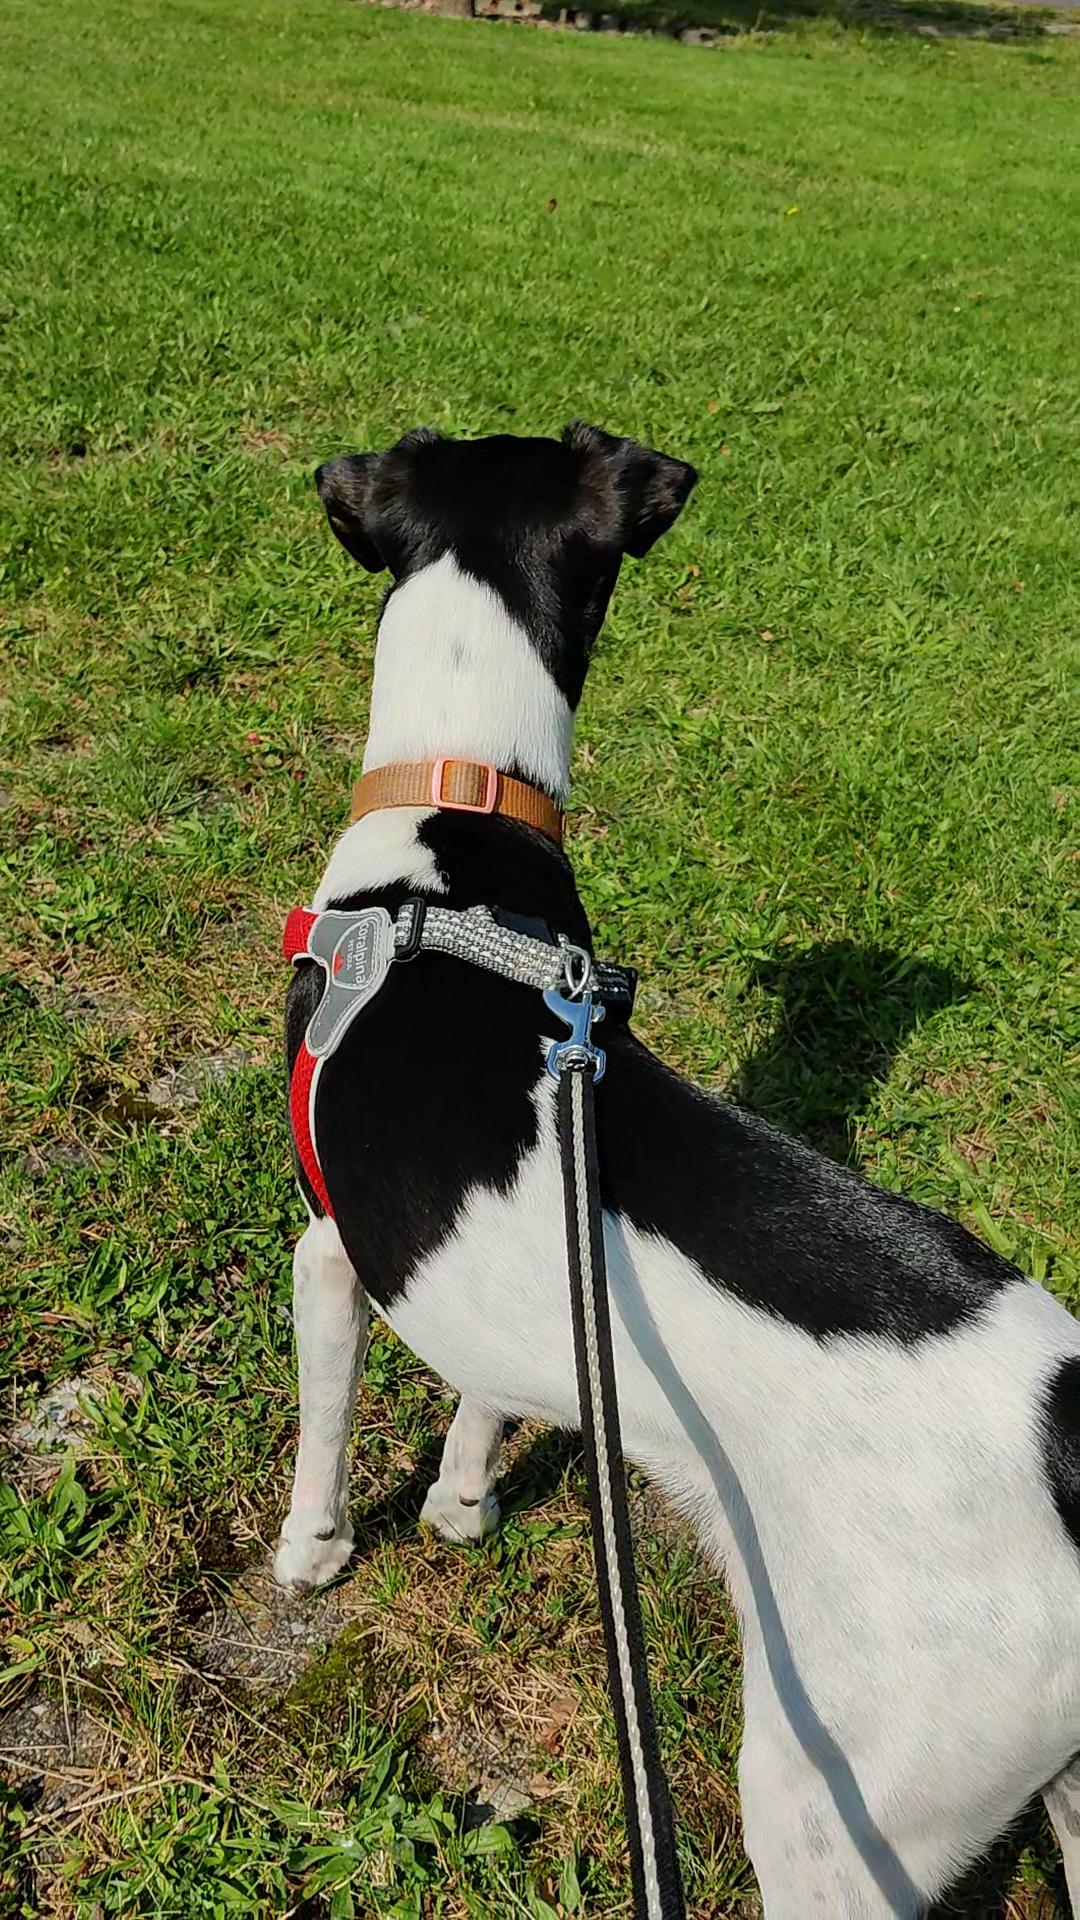Dog: (262, 415, 1079, 1919)
